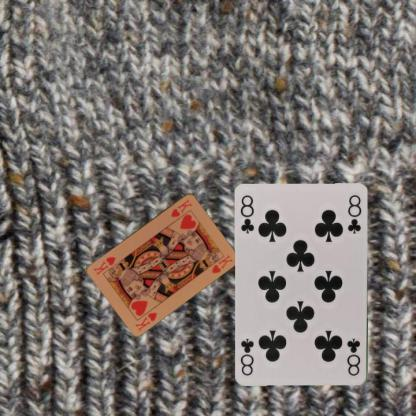8c: (238, 192, 256, 235), (345, 336, 362, 377)
Kh: (168, 196, 194, 218), (132, 310, 158, 332)
